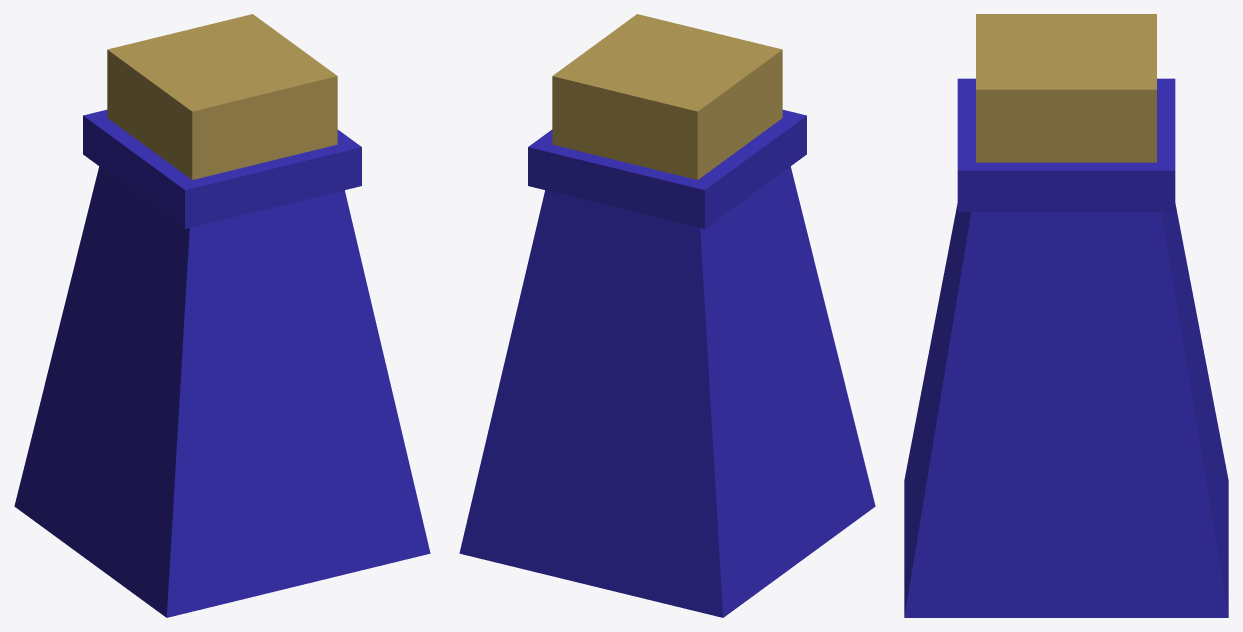
Rendered from MinorPotion_Mana.fbx.
The picture shows the model from 3 angles, left to right: view 1: azimuth 30°, elevation 25°; view 2: azimuth 150°, elevation 25°; view 3: azimuth 270°, elevation 25°; orthographic projection. The views are drawn at different scales.
Visible parts, largest first — view 1: MinorPotion_Mana; view 2: MinorPotion_Mana; view 3: MinorPotion_Mana.
Boxes of the visible parts, x1,y1,x2,y2 form: MinorPotion_Mana: (14, 14, 430, 617); MinorPotion_Mana: (459, 14, 875, 617); MinorPotion_Mana: (904, 14, 1228, 617).
Size of the model in its own units: 241 by 408 by 241.
